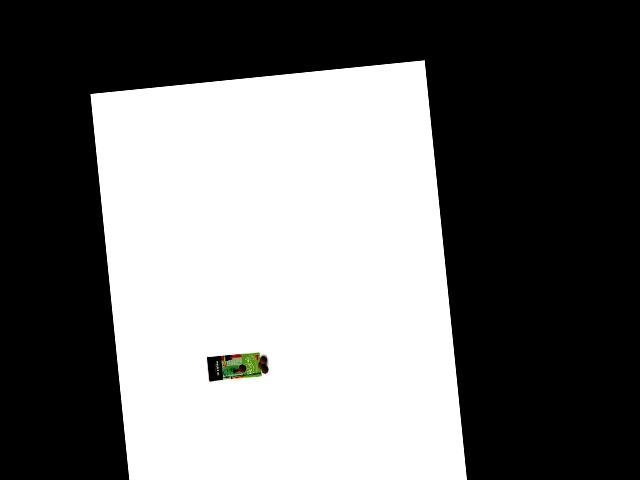chocolate: (204, 348, 263, 387)
